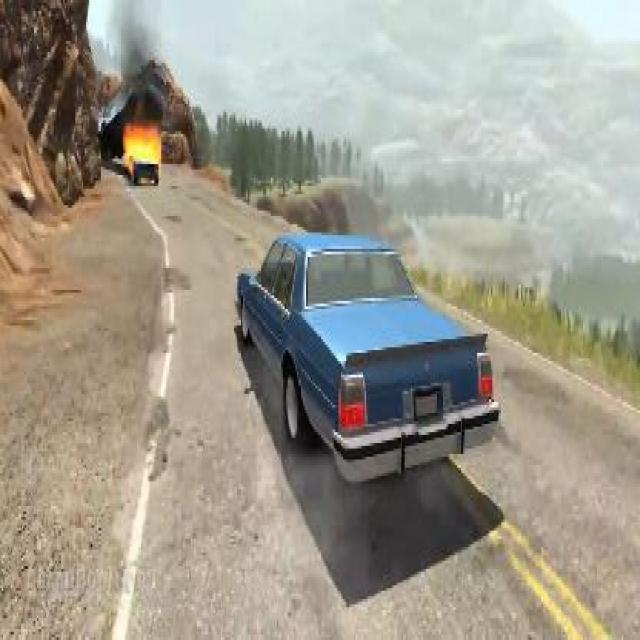accident: (96, 57, 170, 189)
